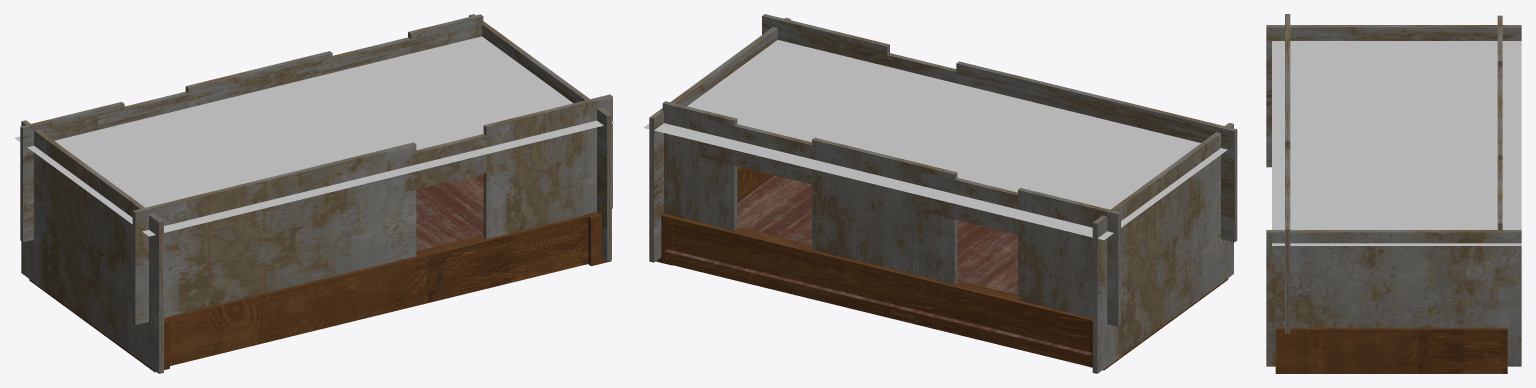
Rendered from interior.fbx.
3 renders of one model, left to right at view 1: azimuth 30°, elevation 25°; view 2: azimuth 150°, elevation 25°; view 3: azimuth 270°, elevation 25°, orthographic. The views are drawn at different scales.
Visible parts, largest first — view 1: Cube, Plane, Plane.001; view 2: Cube, Plane, Plane.001; view 3: Plane, Cube.
Boxes of the visible parts, <box> form: Cube: <box>20,14,612,373</box>; Plane: <box>14,36,614,236</box>; Plane.001: <box>416,173,483,250</box>; Cube: <box>649,14,1237,373</box>; Plane: <box>643,40,1227,240</box>; Plane.001: <box>665,175,1092,355</box>; Plane: <box>1272,41,1521,245</box>; Cube: <box>1266,14,1521,373</box>.
Bounding box in the file's own units: 1919 × 613 × 961.
